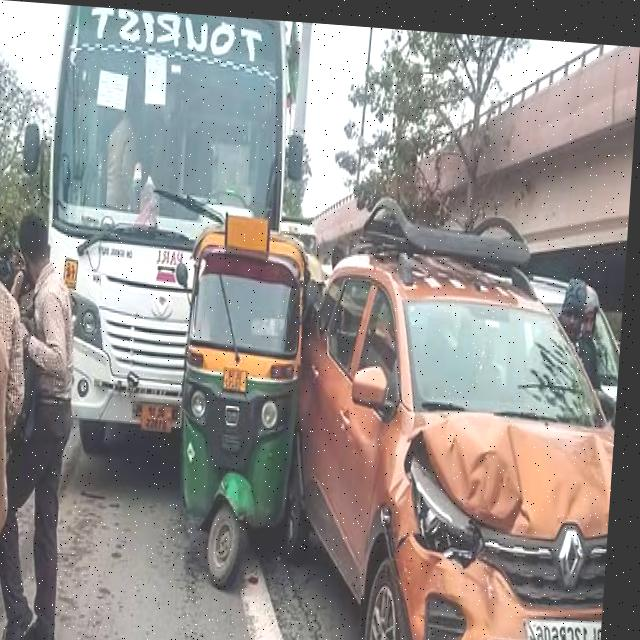plate: (529, 602, 610, 640), (144, 395, 180, 432), (226, 362, 254, 392)
